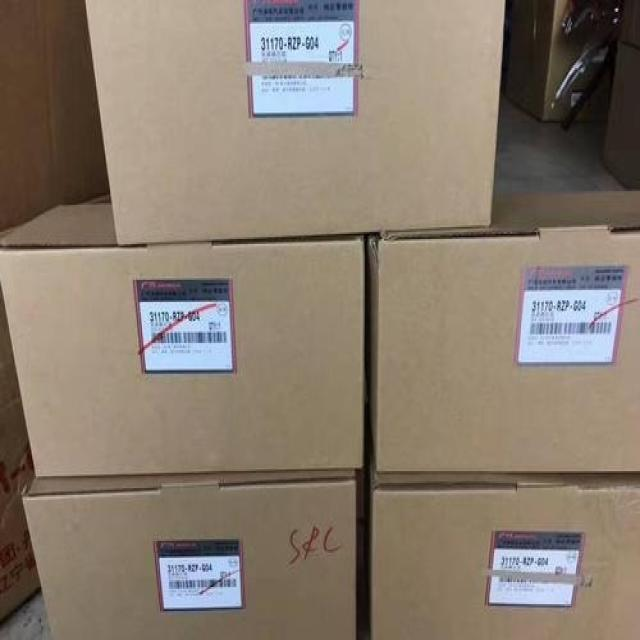box: (2, 190, 364, 475), (84, 1, 503, 241), (360, 189, 639, 474), (23, 471, 358, 638), (370, 469, 639, 637), (1, 1, 108, 229), (499, 1, 626, 121), (0, 289, 41, 620), (604, 2, 639, 191)
